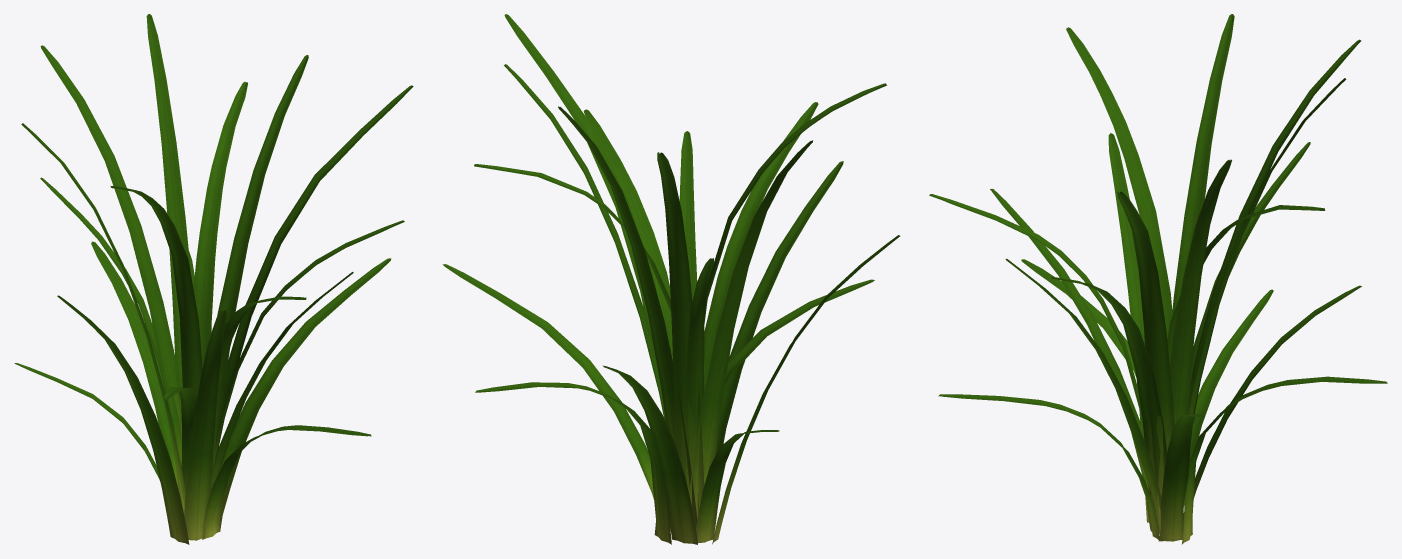
Rendered from plant_02.glb.
The picture shows the model from 3 angles, left to right: view 1: azimuth 30°, elevation 25°; view 2: azimuth 150°, elevation 25°; view 3: azimuth 270°, elevation 25°; orthographic projection. The views are drawn at different scales.
Parts seen in each view (by area): view 1: plant_02; view 2: plant_02; view 3: plant_02.
Part boxes in pixels (box(x1,y1,x2,y2)): plant_02: box(14, 14, 413, 544); plant_02: box(442, 14, 899, 544); plant_02: box(929, 14, 1387, 544).
Bounding box in the file's own units: 11.9 × 13.49 × 11.88.
Materials: 1 (1 with a texture image).
